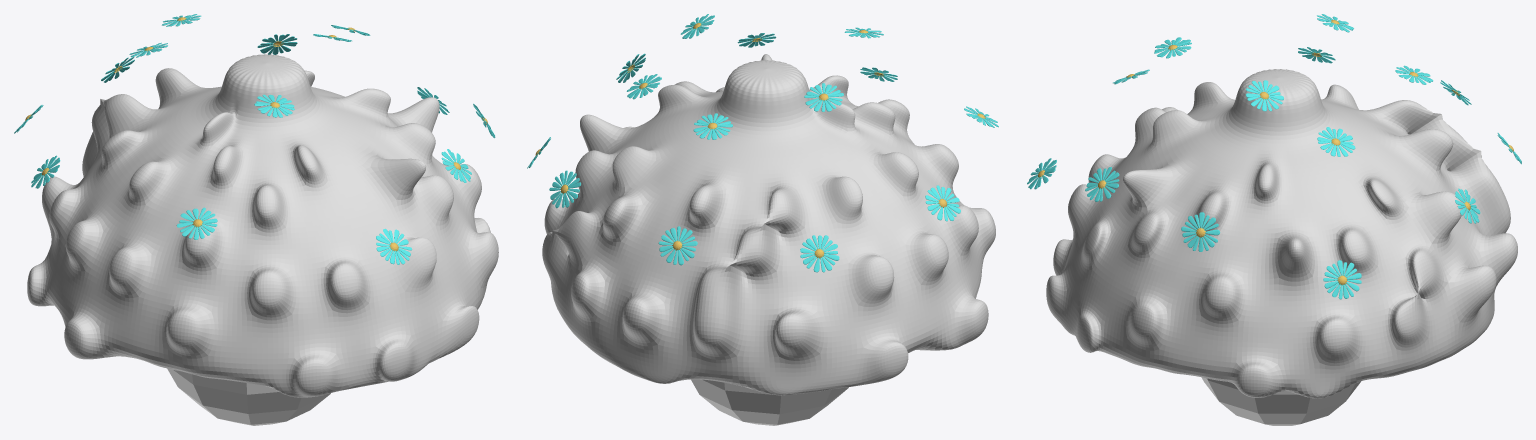
File: Zinnia  sky.fbx
3 views of the same model, side by side, from view 1: azimuth 30°, elevation 25°; view 2: azimuth 150°, elevation 25°; view 3: azimuth 270°, elevation 25° (orthographic). The views are drawn at different scales.
Parts seen in each view (by area): view 1: ทรงกลม, ทรงกลม.002, ระนาบ.005, ระนาบ.004, ระนาบ.003, ระนาบ.002, ระนาบ.006, ระนาบ.009; view 2: ทรงกลม, ทรงกลม.002, ระนาบ.007, ระนาบ.014, ระนาบ.009, ระนาบ.006, ระนาบ.008, ระนาบ.001, ระนาบ.012; view 3: ทรงกลม, ทรงกลม.002, ระนาบ.010, ระนาบ.013, ระนาบ.011, ระนาบ.002, ระนาบ.012, ระนาบ.006, ระนาบ.003.
Boxes of the visible parts, <box> form: ทรงกลม: <box>27,54,498,397</box>; ทรงกลม.002: <box>167,368,330,425</box>; ระนาบ.005: <box>176,207,217,239</box>; ระนาบ.004: <box>376,229,411,264</box>; ระนาบ.003: <box>254,94,294,117</box>; ระนาบ.002: <box>441,149,471,182</box>; ระนาบ.006: <box>257,34,297,54</box>; ระนาบ.009: <box>31,155,60,188</box>; ทรงกลม: <box>542,54,995,395</box>; ทรงกลม.002: <box>691,379,848,425</box>; ระนาบ.007: <box>800,235,839,272</box>; ระนาบ.014: <box>658,226,697,265</box>; ระนาบ.009: <box>925,185,960,221</box>; ระนาบ.006: <box>549,170,580,208</box>; ระนาบ.008: <box>804,83,843,111</box>; ระนาบ.001: <box>693,113,732,139</box>; ระนาบ.012: <box>626,74,661,99</box>; ทรงกลม: <box>1046,69,1517,398</box>; ทรงกลม.002: <box>1201,377,1360,425</box>; ระนาบ.010: <box>1181,212,1220,251</box>; ระนาบ.013: <box>1323,260,1361,299</box>; ระนาบ.011: <box>1245,80,1283,111</box>; ระนาบ.002: <box>1085,167,1119,201</box>; ระนาบ.012: <box>1317,127,1355,156</box>; ระนาบ.006: <box>1455,188,1480,223</box>; ระนาบ.003: <box>1154,37,1191,58</box>.
Bounding box in the file's own units: 217 × 187 × 226.
